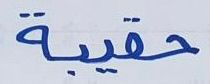beh: (52, 39, 89, 77)
dal: (153, 28, 201, 65)
qaf: (117, 15, 151, 65)
teh_marbota: (12, 9, 51, 68)
yeh: (91, 33, 116, 75)
